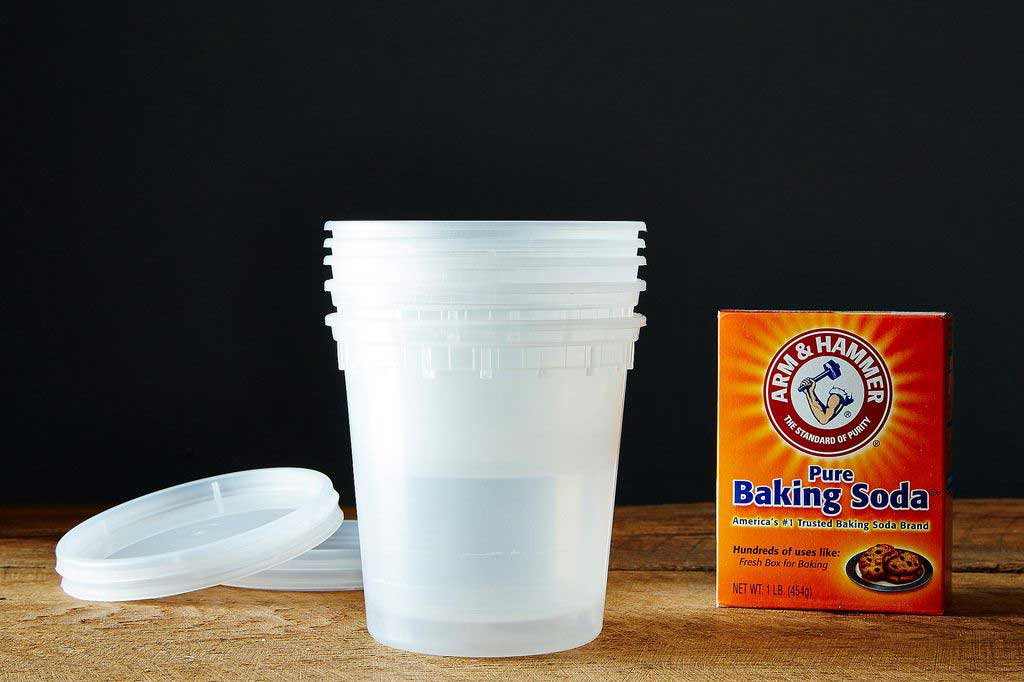PlasticBox: (318, 209, 655, 665)
